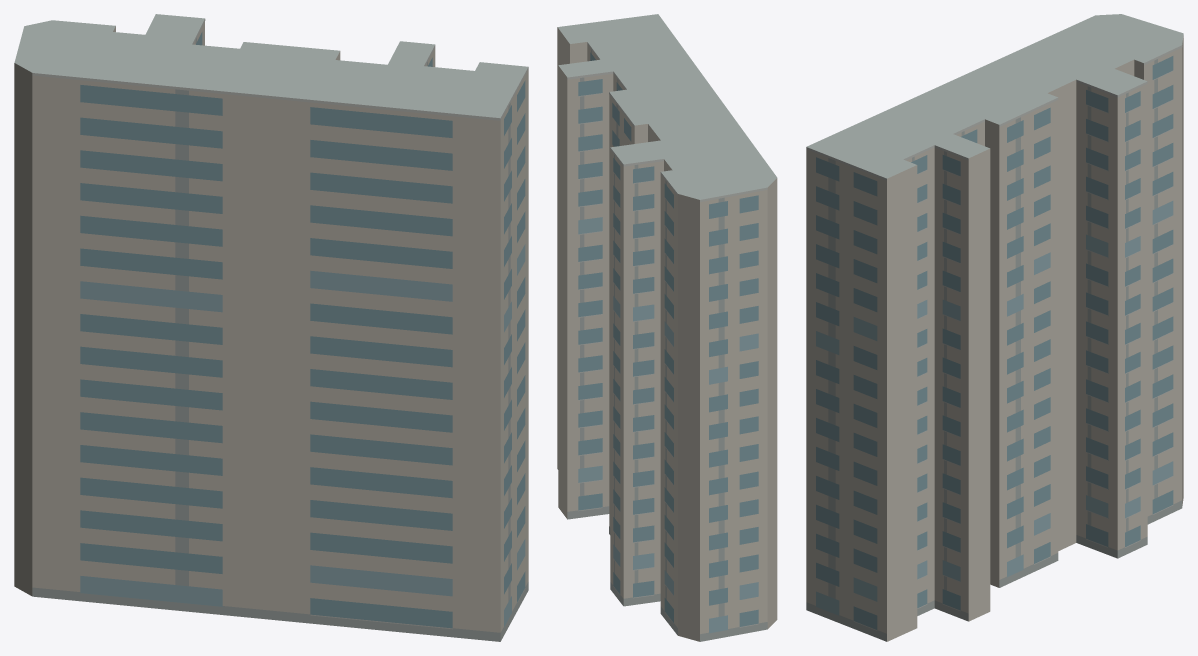
Rendered from residential-1df63e79-6a10-4760-9a35-39e29456c8e8.glb.
The picture shows the model from 3 angles, left to right: view 1: azimuth 30°, elevation 25°; view 2: azimuth 150°, elevation 25°; view 3: azimuth 270°, elevation 25°; orthographic projection. The views are drawn at different scales.
Parts seen in each view (by area): view 1: residential-1df63e79-6a10-4760-9a35-39e29456c8e8.tmp; view 2: residential-1df63e79-6a10-4760-9a35-39e29456c8e8.tmp; view 3: residential-1df63e79-6a10-4760-9a35-39e29456c8e8.tmp.
Part boxes in pixels (<box>): residential-1df63e79-6a10-4760-9a35-39e29456c8e8.tmp: <box>14,14,528,641</box>; residential-1df63e79-6a10-4760-9a35-39e29456c8e8.tmp: <box>557,14,777,641</box>; residential-1df63e79-6a10-4760-9a35-39e29456c8e8.tmp: <box>806,14,1183,641</box>.
Bounding box in the file's own units: 37.21 × 48.8 × 36.05.
